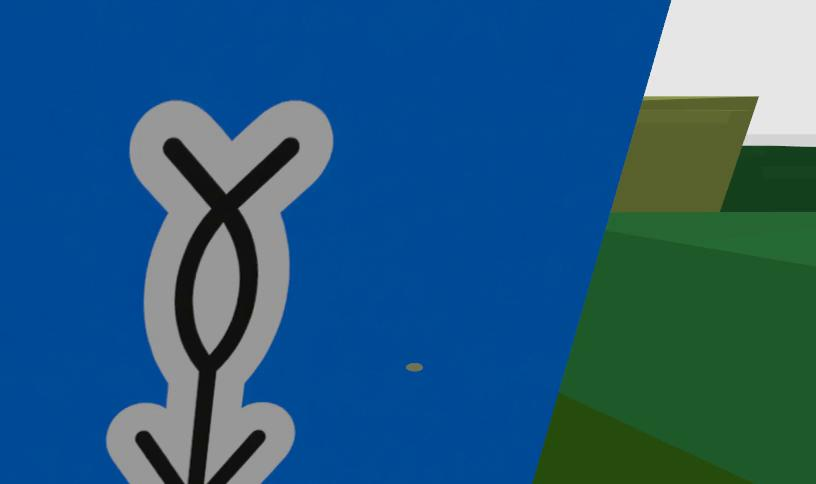KFS_REAL: (0, 0, 667, 484), (80, 101, 332, 484)
